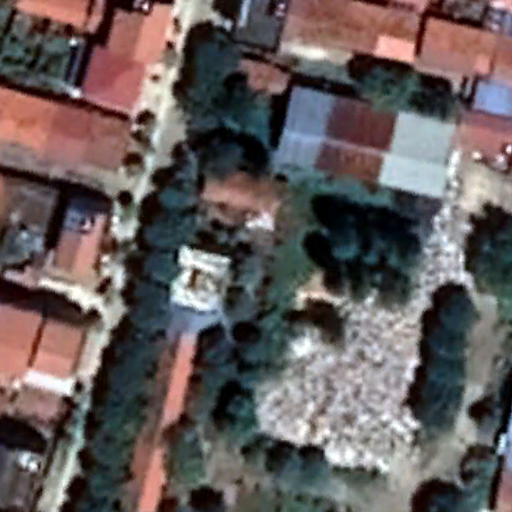msw: (255, 306, 432, 471)
